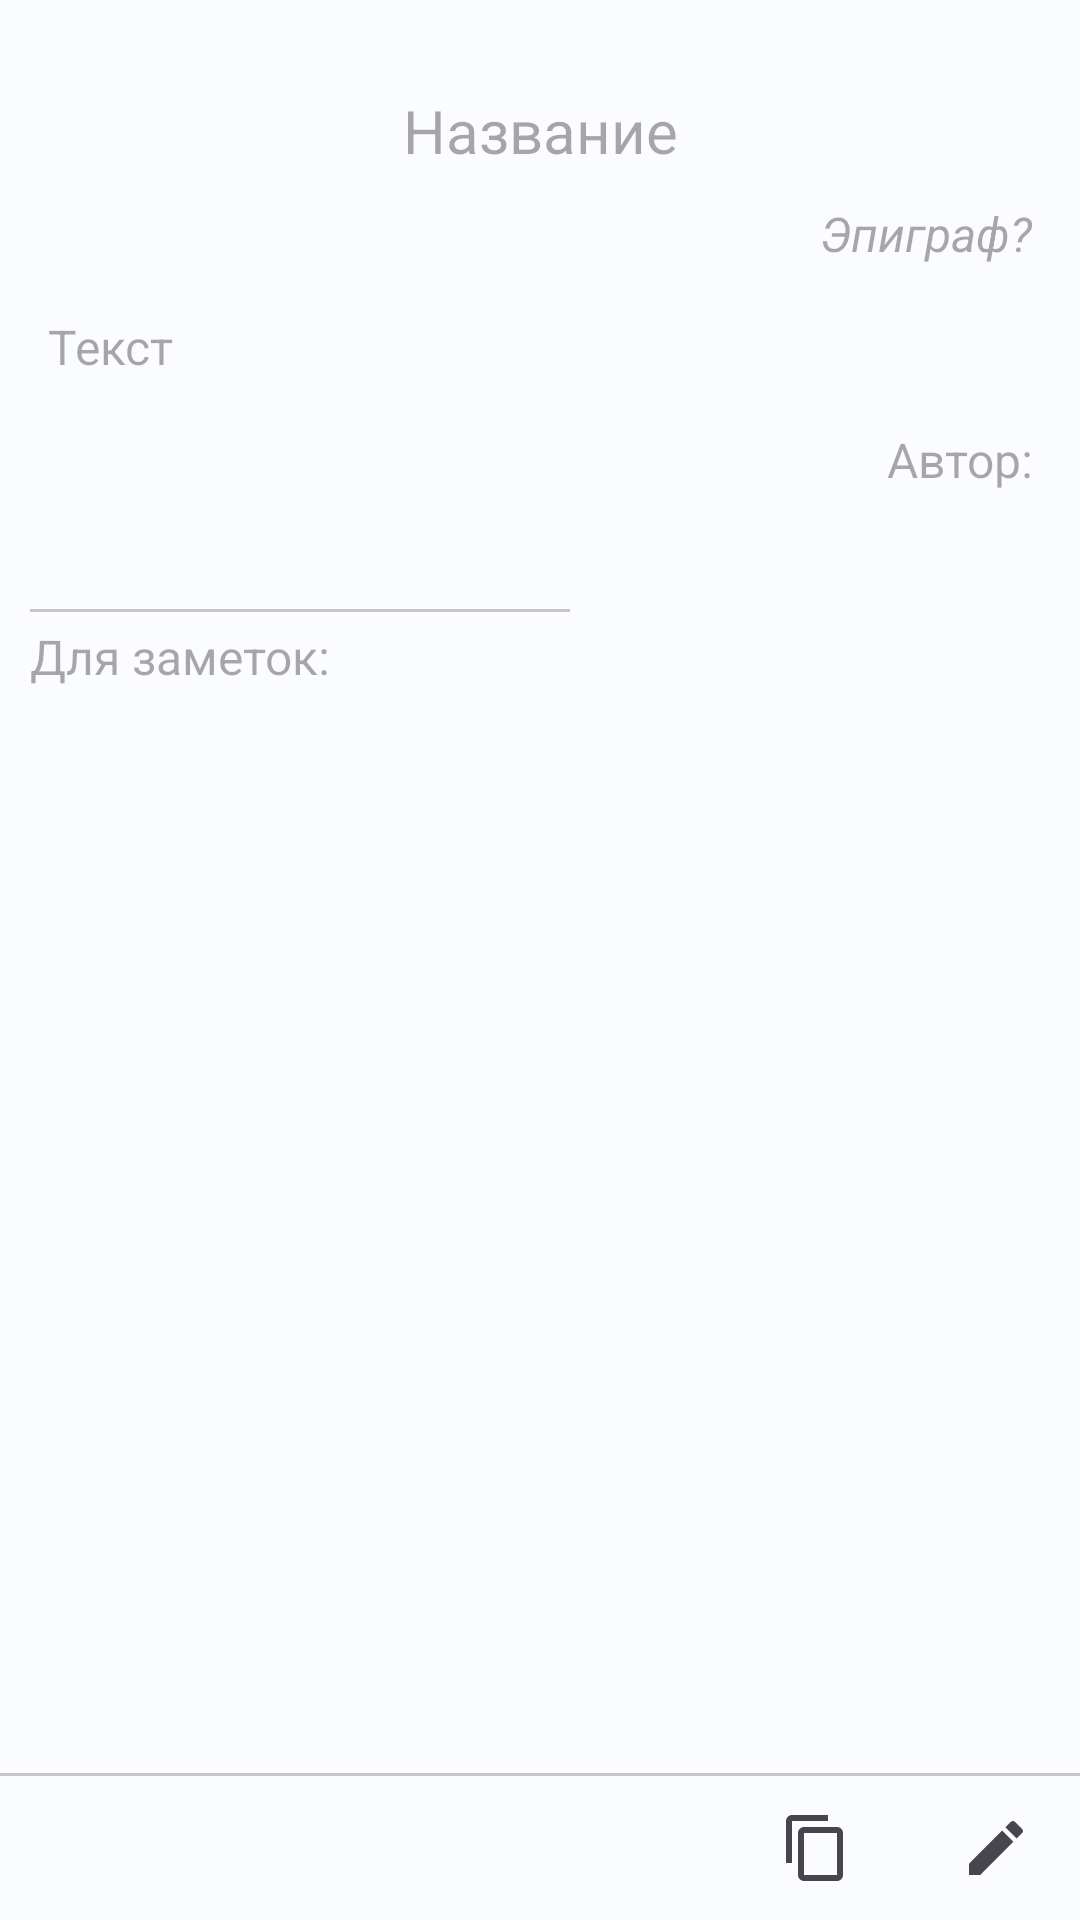

Where icons sit on this 1080x1920 app screen, as BBox(x1, y1, x2, y2):
Редактировать текст: BBox(969, 1821, 1023, 1875)
Скопировать текст: BBox(786, 1815, 843, 1881)
